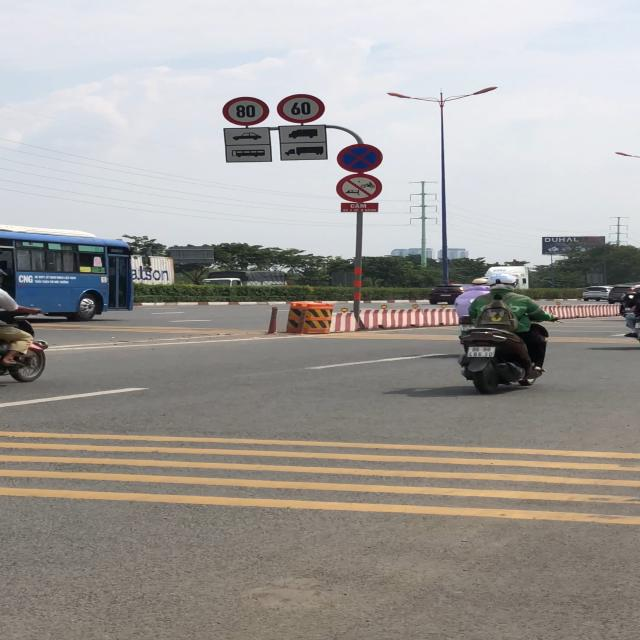Bien bao cam dung xe va do xe: (335, 143, 385, 173)
Bien bao toc do toi da cho phep: (222, 95, 270, 126), (278, 92, 324, 124)
